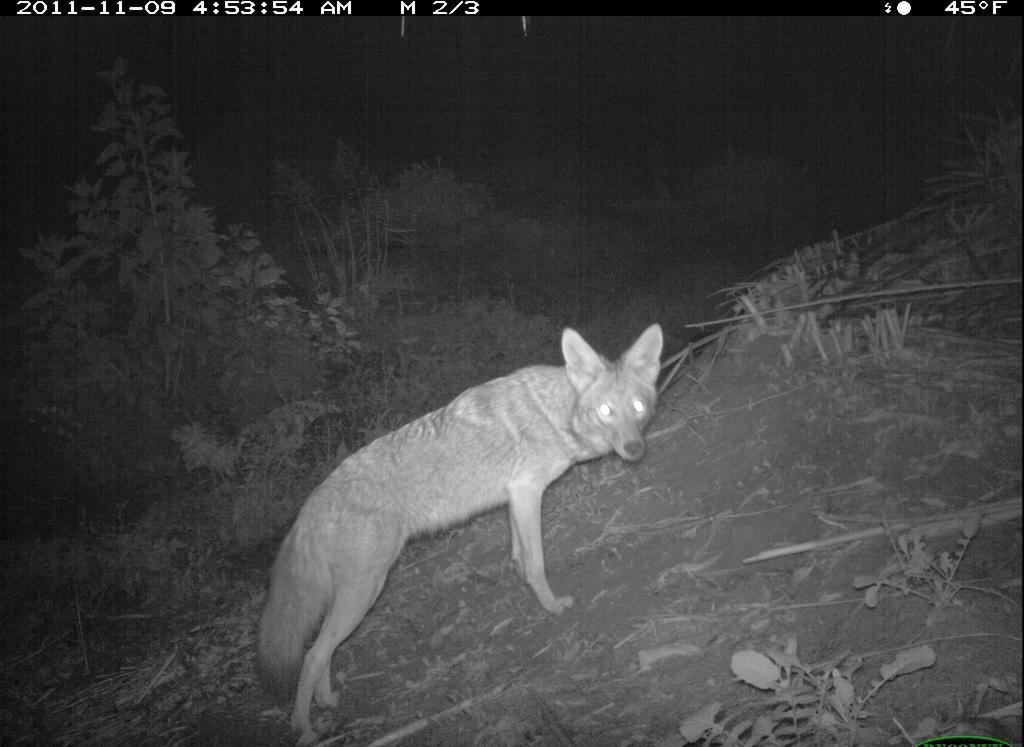coyote: (244, 308, 684, 742)
